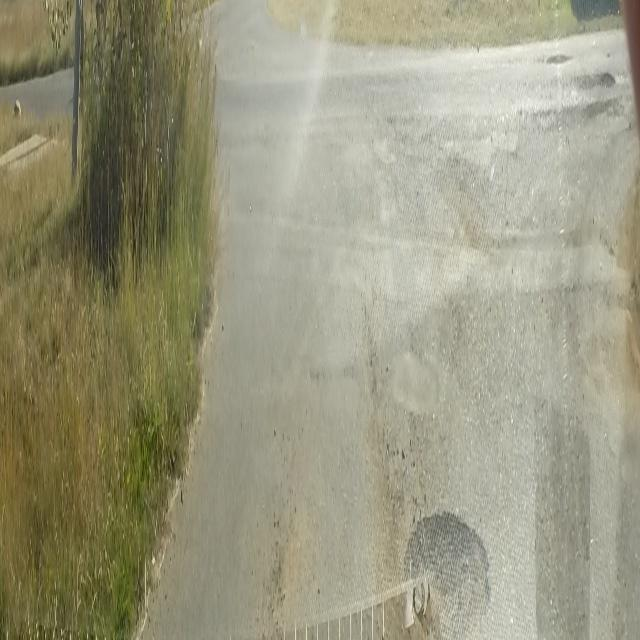pothole: (400, 514, 494, 617)
